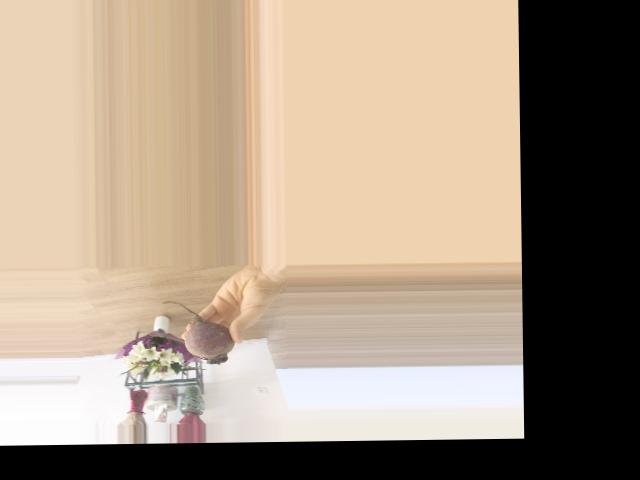beet: (160, 300, 234, 365)
